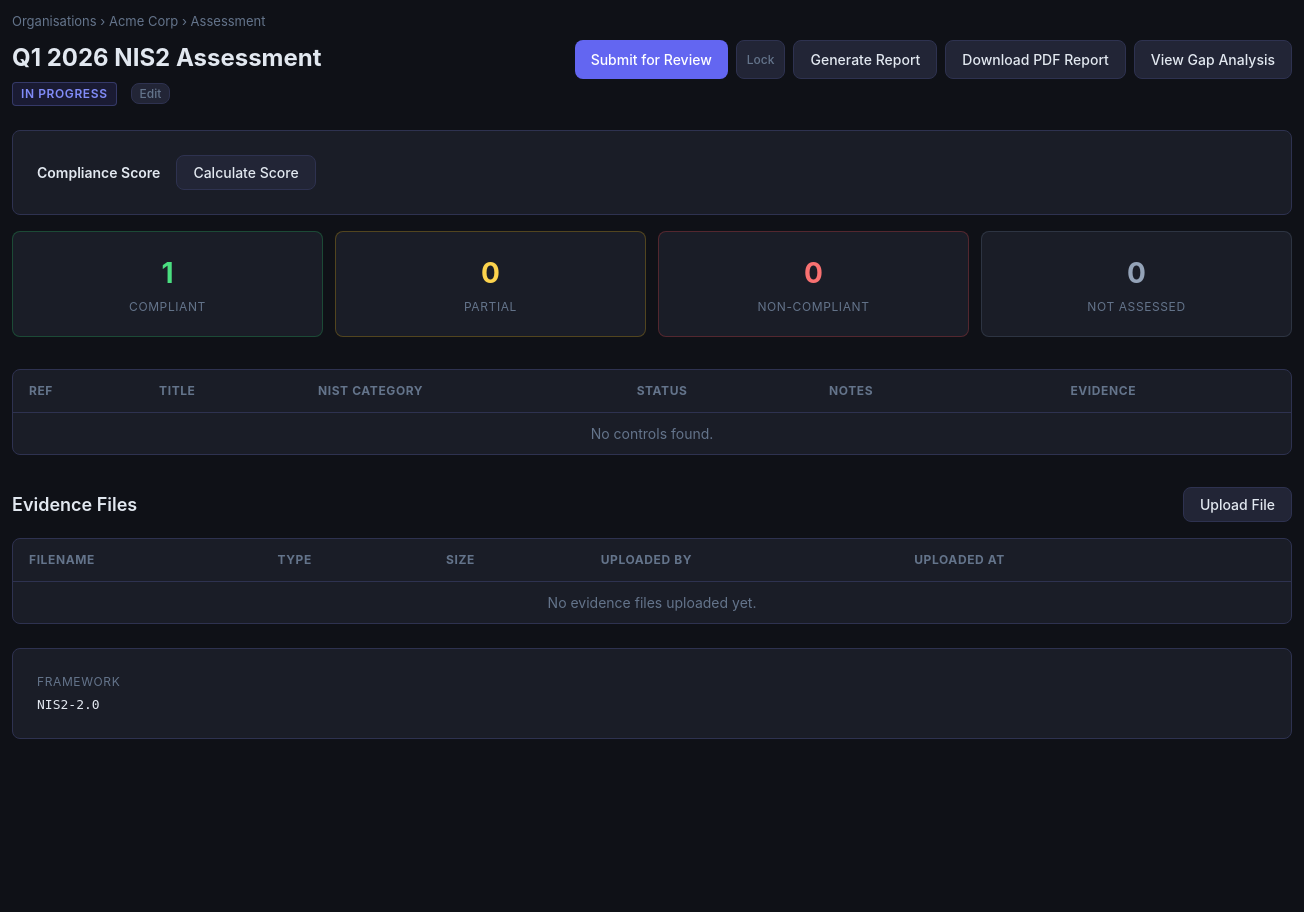
Scenario: AssessmentDetail page › shows error message when PDF download fails
Click the button "Download PDF Report": click(1036, 59) [945, 40, 1126, 78]
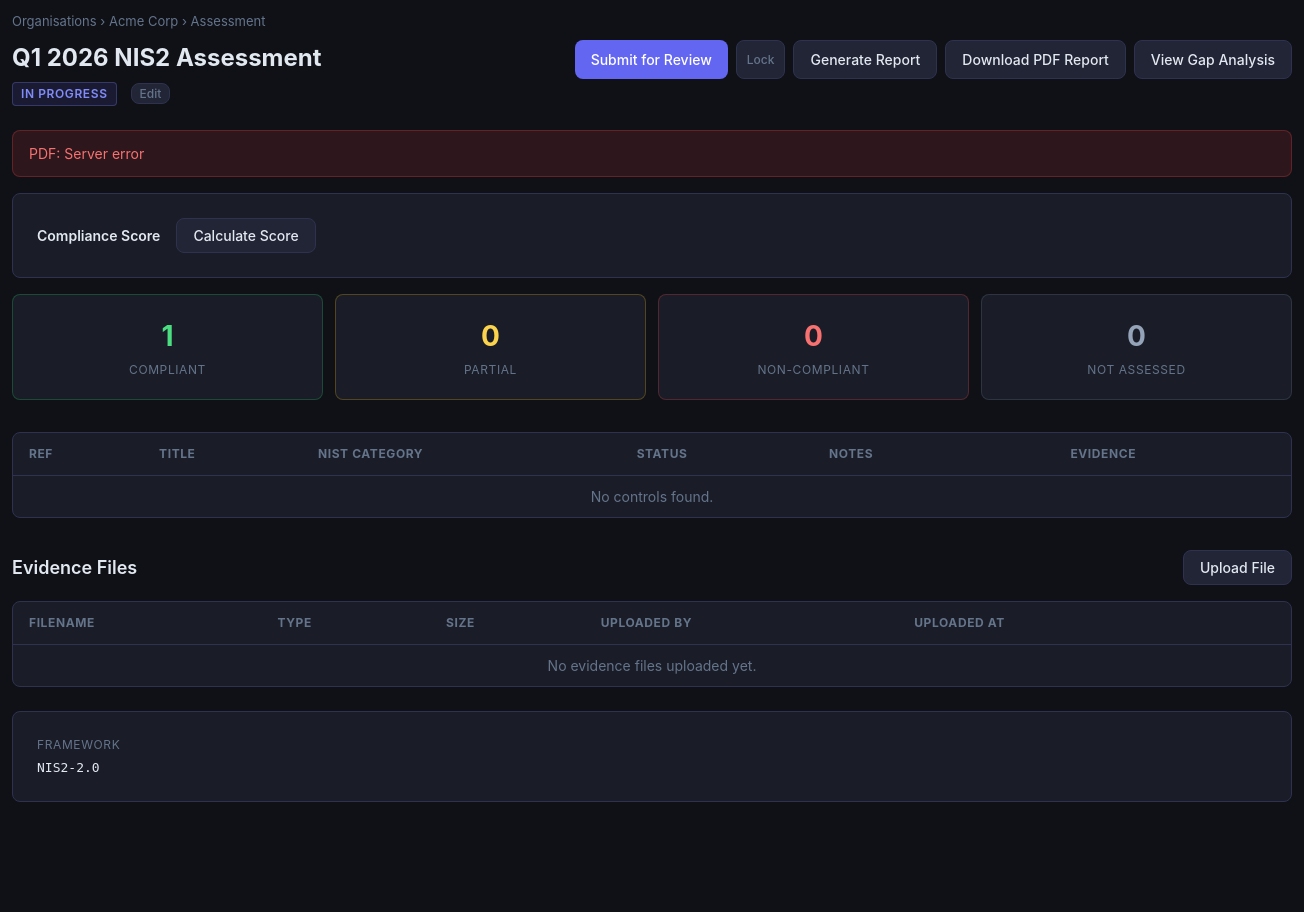
Expected: the text "PDF: Server error" is shown, [12, 130, 1292, 176]
